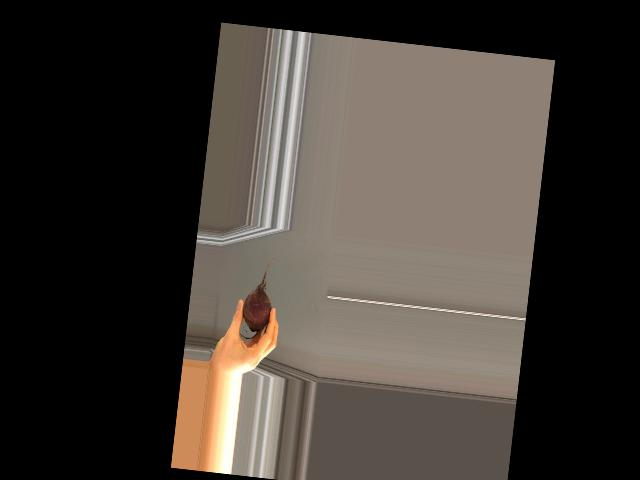beet: (239, 250, 276, 340)
